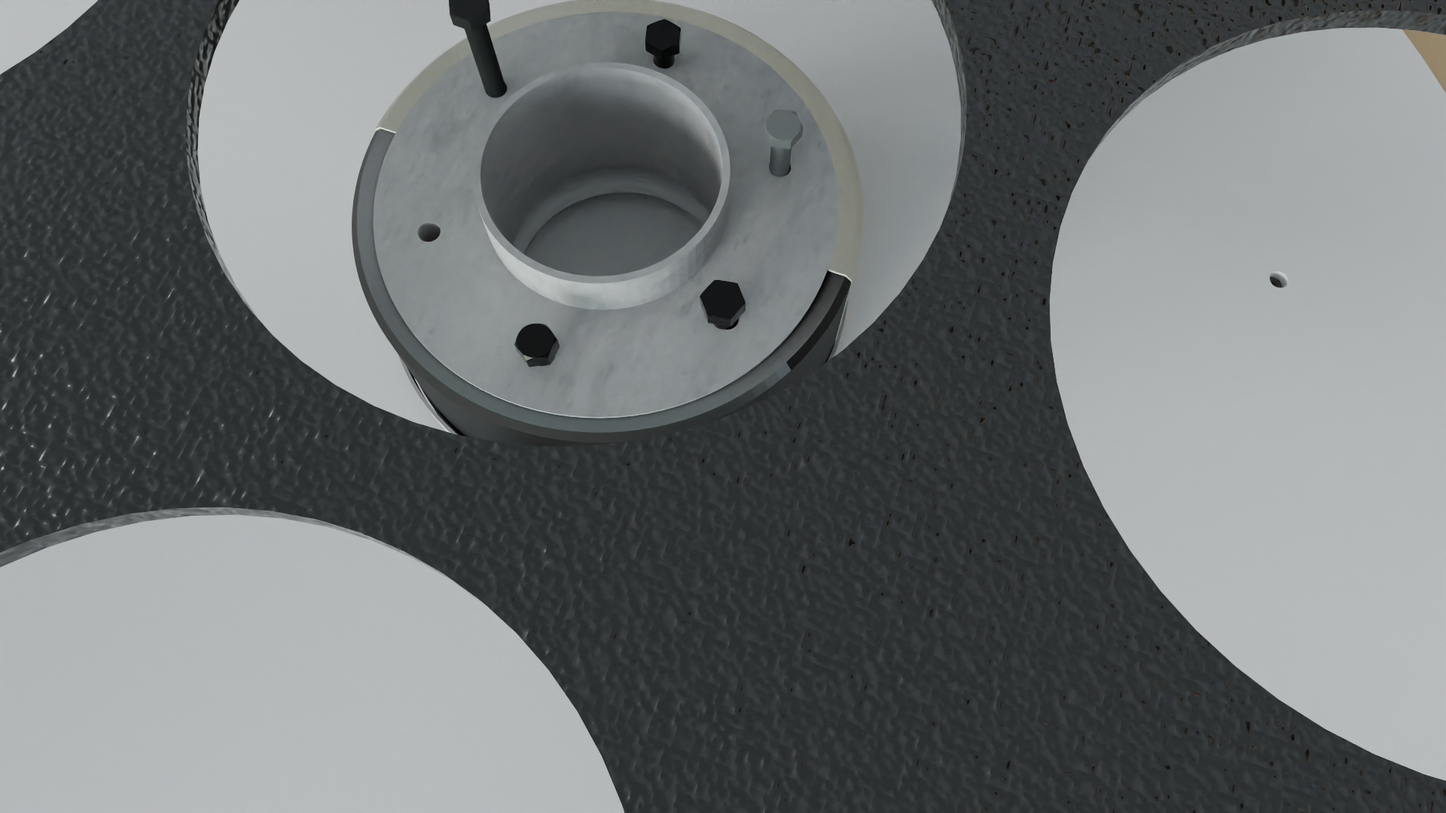bolt: (700, 280, 746, 320), (514, 323, 557, 361), (764, 110, 803, 142), (645, 19, 681, 51), (449, 0, 488, 22)
